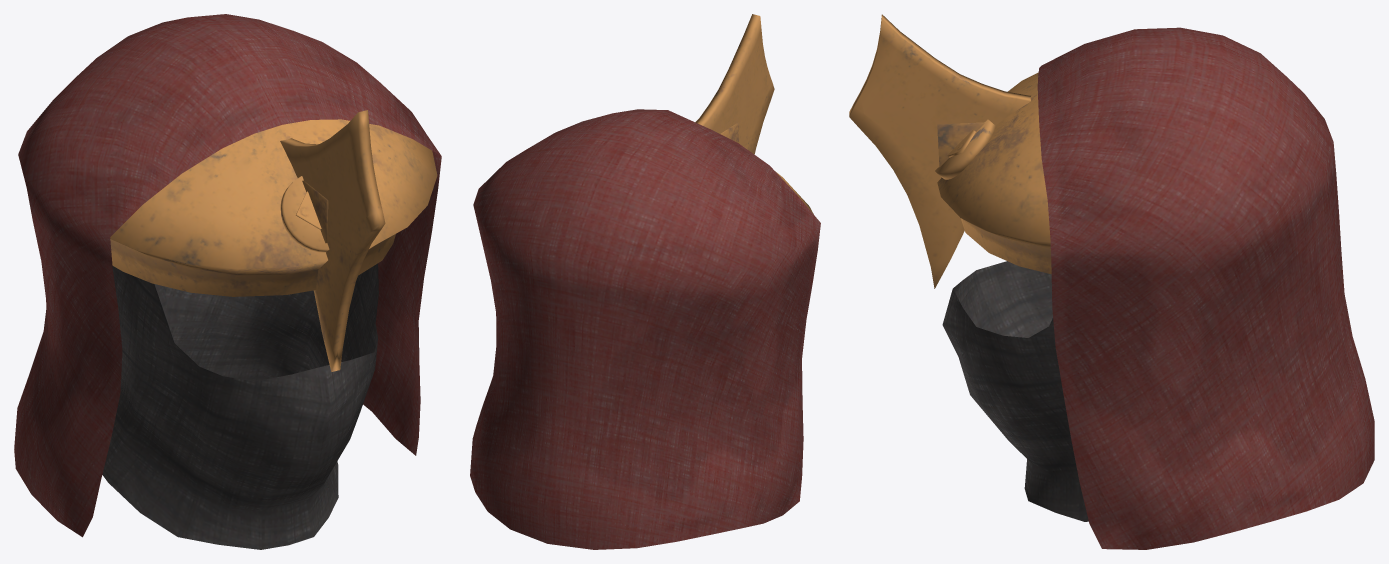
The model's file is easterlingwarriors01_helmet.fbx.
The picture shows the model from 3 angles, left to right: view 1: azimuth 30°, elevation 25°; view 2: azimuth 150°, elevation 25°; view 3: azimuth 270°, elevation 25°; orthographic projection. The views are drawn at different scales.
Visible parts, largest first — view 1: easterlingwarriors01_helmet; view 2: easterlingwarriors01_helmet; view 3: easterlingwarriors01_helmet.
Part boxes in pixels (x1,y1,x2,y2): easterlingwarriors01_helmet: (14,14,441,549); easterlingwarriors01_helmet: (470,14,820,549); easterlingwarriors01_helmet: (849,14,1374,549).
Size of the model in its own units: 0.2944 by 0.3818 by 0.3789.
Materials: 1 (1 with a texture image).
